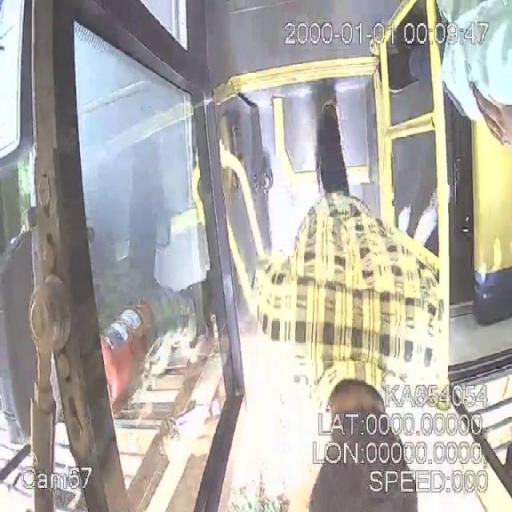persona: (246, 96, 448, 511)
